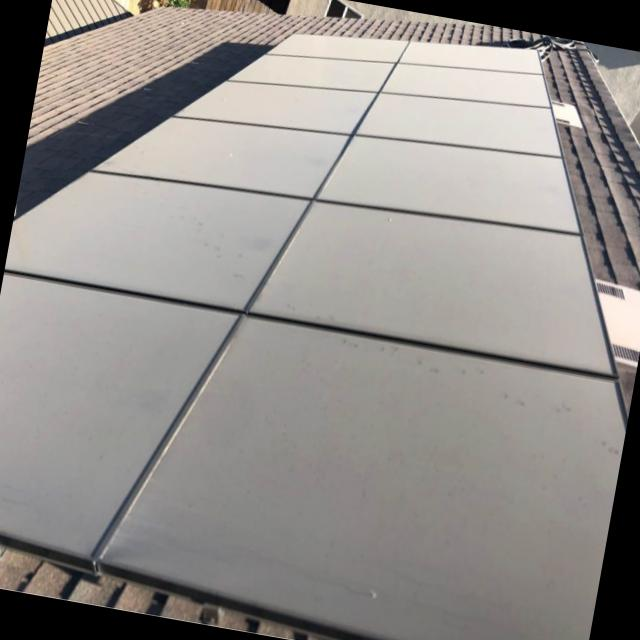faulty: (0, 28, 625, 640)
